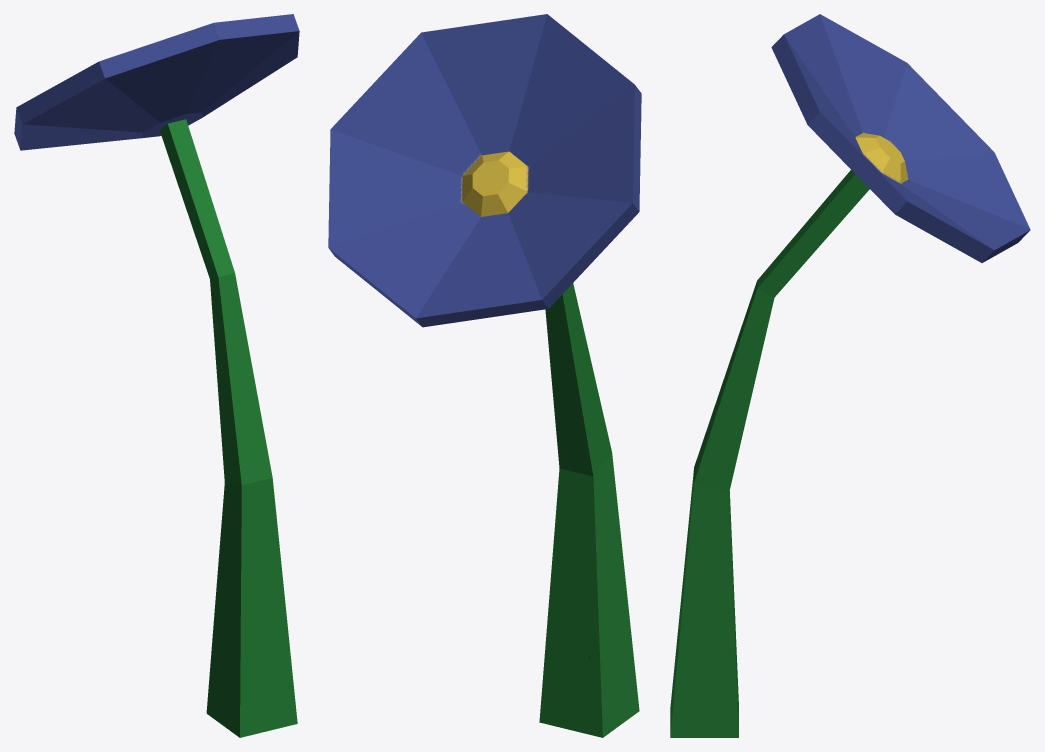
The model's file is flower_blue.fbx.
3 renders of one model, left to right at view 1: azimuth 30°, elevation 25°; view 2: azimuth 150°, elevation 25°; view 3: azimuth 270°, elevation 25°, orthographic. The views are drawn at different scales.
Parts seen in each view (by area): view 1: flower_blue; view 2: flower_blue; view 3: flower_blue.
Part boxes in pixels (x1,y1,x2,y2): flower_blue: [14, 14, 299, 737]; flower_blue: [328, 14, 641, 737]; flower_blue: [670, 14, 1030, 737].
Size of the model in its own units: 11.49 by 26.65 by 12.63.
